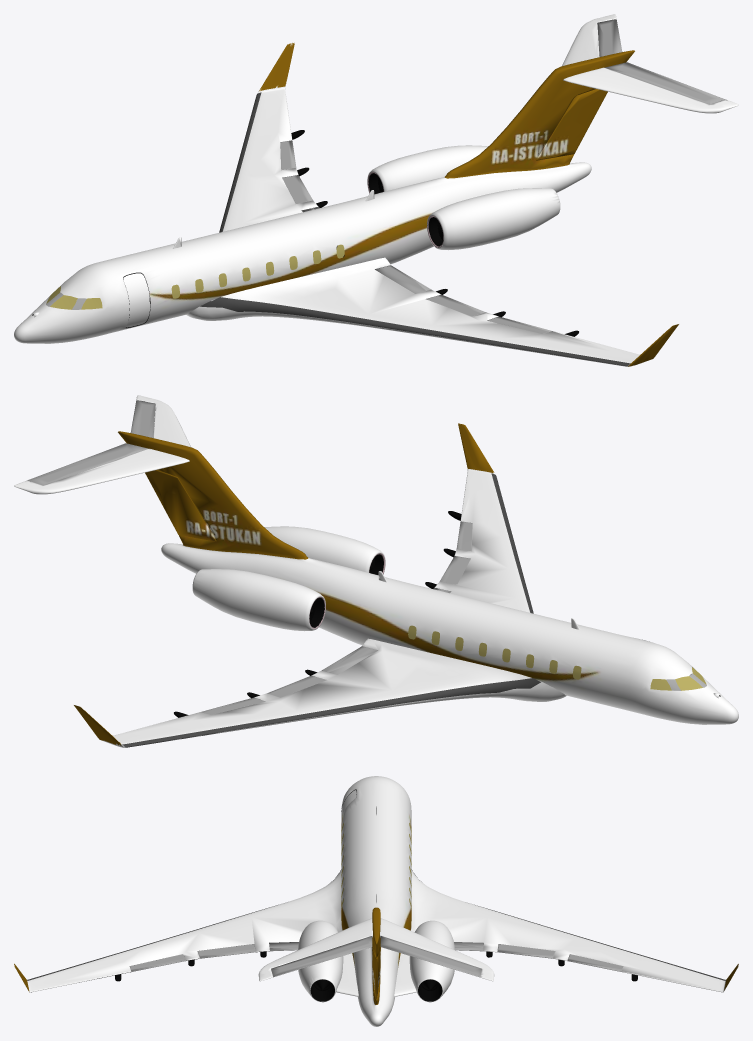
The model's file is jet.glb.
3 views of the same model, one above another, from view 1: azimuth 30°, elevation 25°; view 2: azimuth 150°, elevation 25°; view 3: azimuth 270°, elevation 25° (orthographic). The views are drawn at different scales.
Parts seen in each view (by area): view 1: Object_22; view 2: Object_22; view 3: Object_22.
Boxes of the visible parts, x1,y1,x2,y2 form: Object_22: [14, 14, 738, 366]; Object_22: [14, 395, 738, 747]; Object_22: [14, 776, 738, 1026].
Bounding box in the file's own units: 26.22 × 6.26 × 26.4.
Materials: 8 (2 with a texture image).
